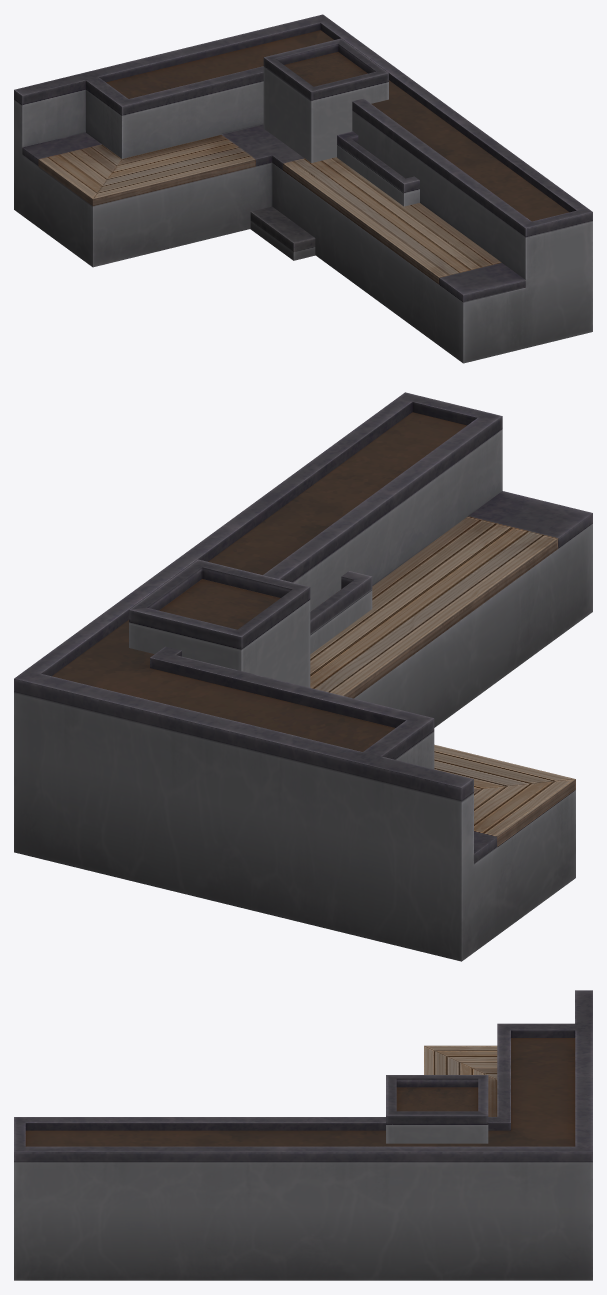
File: plants_f_parterre_02.FBX
The picture shows the model from 3 angles, top to bottom: view 1: azimuth 30°, elevation 25°; view 2: azimuth 150°, elevation 25°; view 3: azimuth 270°, elevation 25°; orthographic projection. The views are drawn at different scales.
Visible parts, largest first — view 1: Plants_f_parterre_02a_LOD0, Plants_f_parterre_02b_LOD0; view 2: Plants_f_parterre_02a_LOD0, Plants_f_parterre_02b_LOD0; view 3: Plants_f_parterre_02a_LOD0, Plants_f_parterre_02b_LOD0.
Part boxes in pixels (x1,y1,x2,y2): Plants_f_parterre_02a_LOD0: (14,14,592,363); Plants_f_parterre_02b_LOD0: (250,38,419,260); Plants_f_parterre_02a_LOD0: (14,392,592,961); Plants_f_parterre_02b_LOD0: (129,559,372,687); Plants_f_parterre_02a_LOD0: (14,990,592,1280); Plants_f_parterre_02b_LOD0: (386,1075,488,1143).
Size of what is drawn, in the model's own units: 196 by 84.76 by 297.
